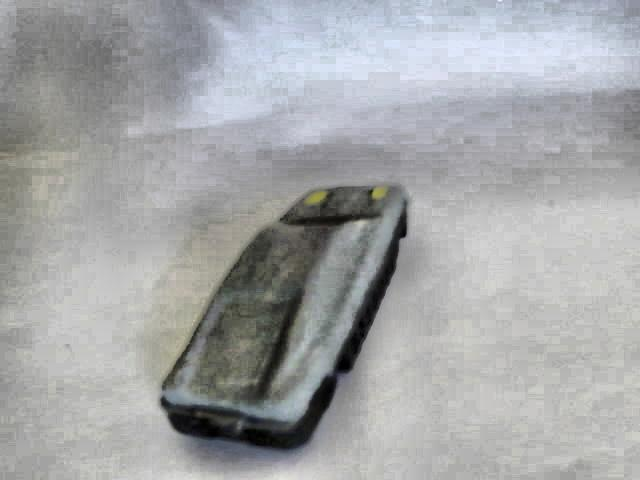normal_car: (154, 180, 412, 453)
